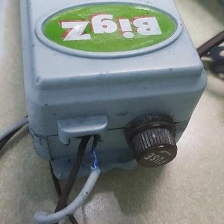three_eye_plug: (14, 0, 212, 182)
